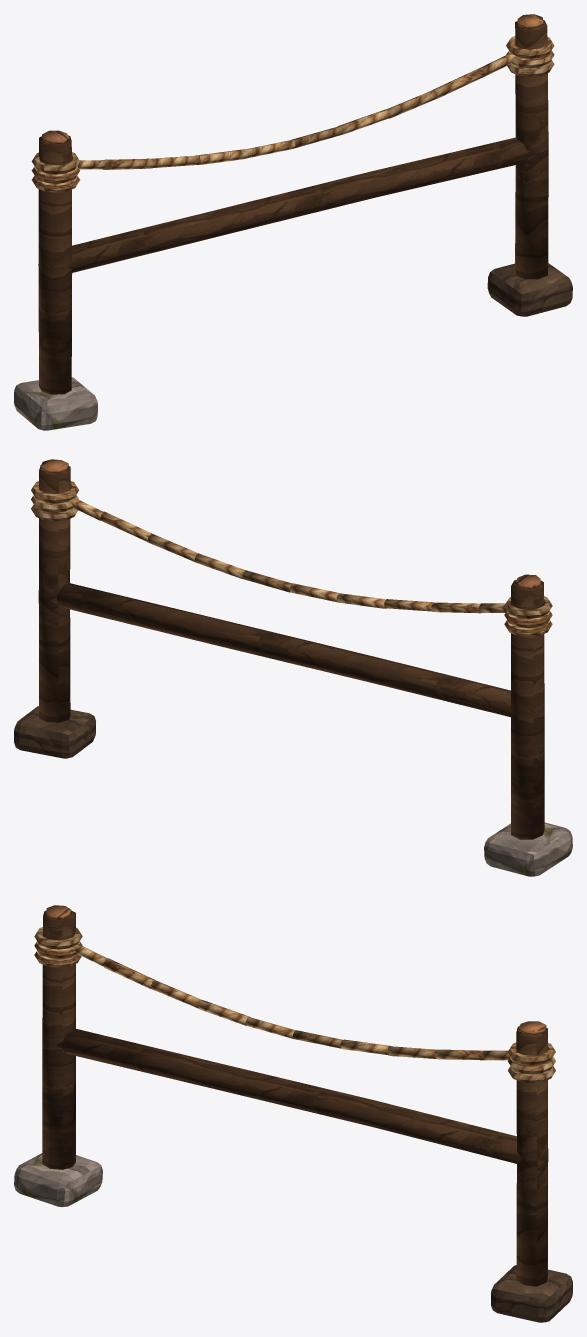
The model's file is rope_fence.glb.
3 views of the same model, one above another, from view 1: azimuth 30°, elevation 25°; view 2: azimuth 150°, elevation 25°; view 3: azimuth 330°, elevation 25° (orthographic).
Parts seen in each view (by area): view 1: model; view 2: model; view 3: model.
Part boxes in pixels (<box>): model: <box>14,14,572,430</box>; model: <box>14,459,572,876</box>; model: <box>14,905,572,1322</box>.
Size of the model in its own units: 1.81 by 0.9147 by 0.2232.
Materials: 7 (7 with a texture image).
